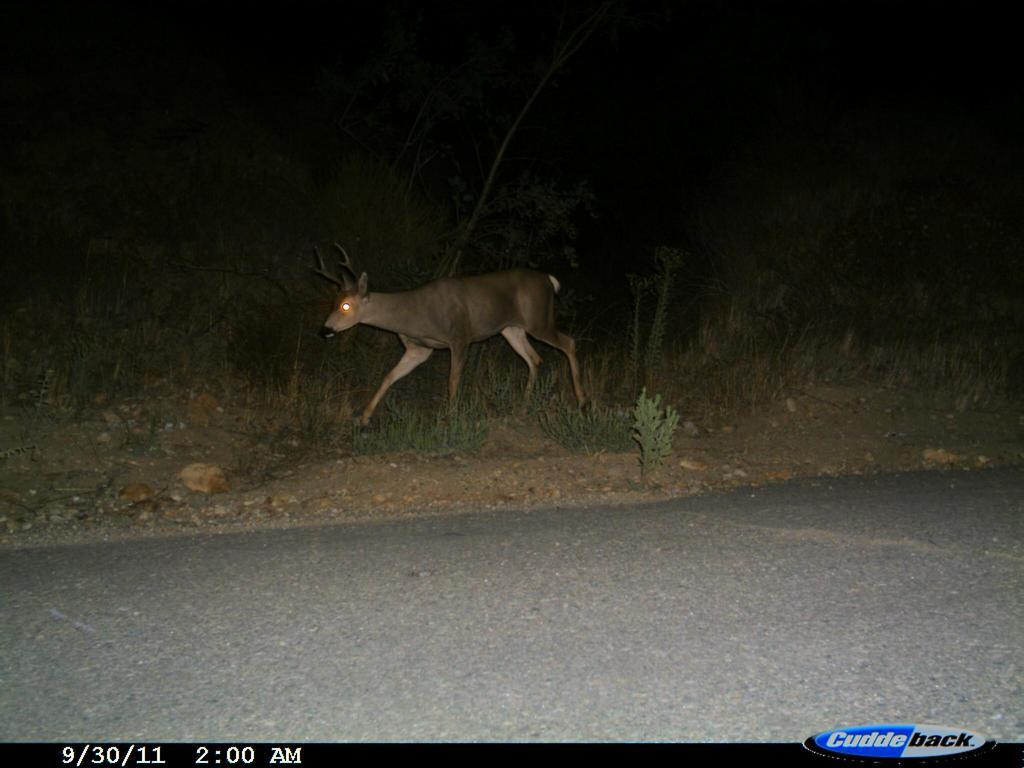deer: (303, 235, 615, 447)
